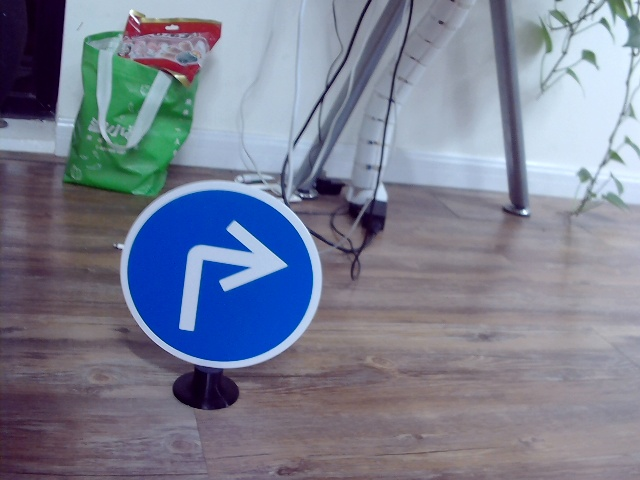turn_right: (164, 215, 282, 331)
